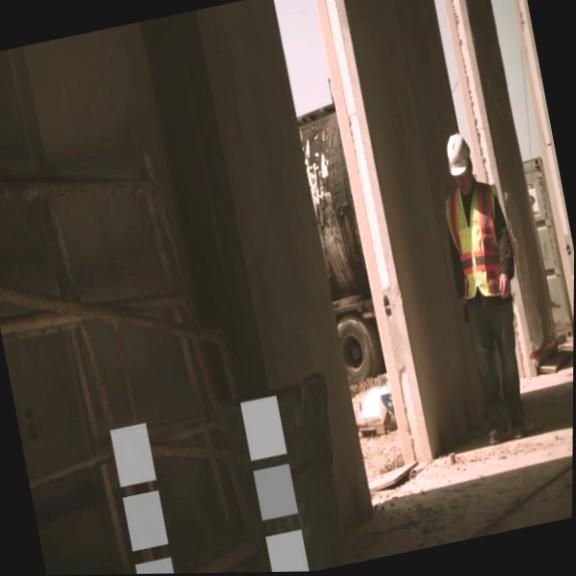safety_vest: (442, 178, 516, 304)
